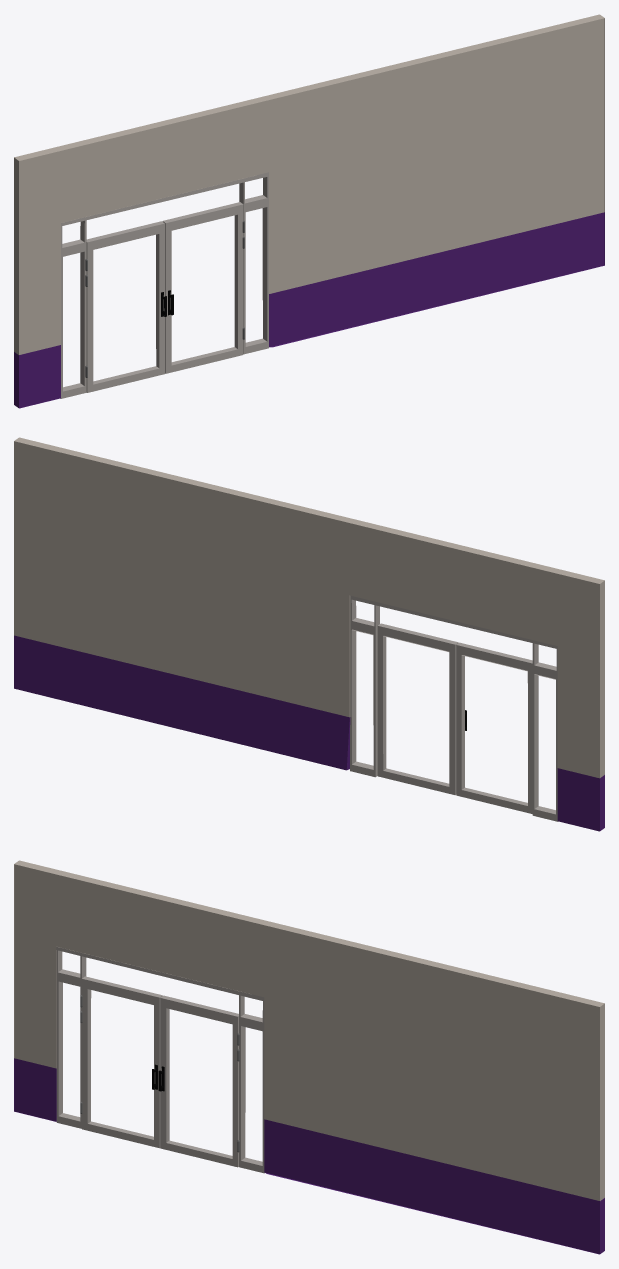
File: reception door.fbx
3 views of the same model, one above another, from view 1: azimuth 30°, elevation 25°; view 2: azimuth 150°, elevation 25°; view 3: azimuth 330°, elevation 25° (orthographic).
Parts seen in each view (by area): view 1: Cube, Cube.001, Cube.002, Cube.004, Cube.003; view 2: Cube, Cube.002, Cube.001, Cube.004, Cube.003; view 3: Cube, Cube.002, Cube.001, Cube.004, Cube.003.
Part boxes in pixels (x1,y1,x2,y2): Cube: (14,14,604,408); Cube.001: (86,221,164,392); Cube.002: (162,202,243,373); Cube.004: (62,172,268,354); Cube.003: (60,217,86,398); Cube: (14,437,604,831); Cube.002: (377,623,458,795); Cube.001: (456,642,532,813); Cube.004: (350,595,557,777); Cube.003: (532,640,558,821); Cube: (14,860,604,1254); Cube.002: (160,995,238,1167); Cube.001: (82,976,162,1148); Cube.004: (56,947,264,1173); Cube.003: (56,947,86,1128).
Size of the model in its own units: 4338 by 1758 by 125.
